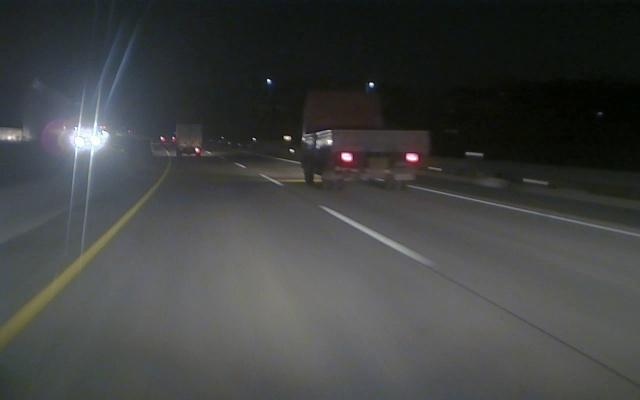lane: (4, 186, 155, 347), (410, 185, 639, 238), (316, 203, 446, 274)
